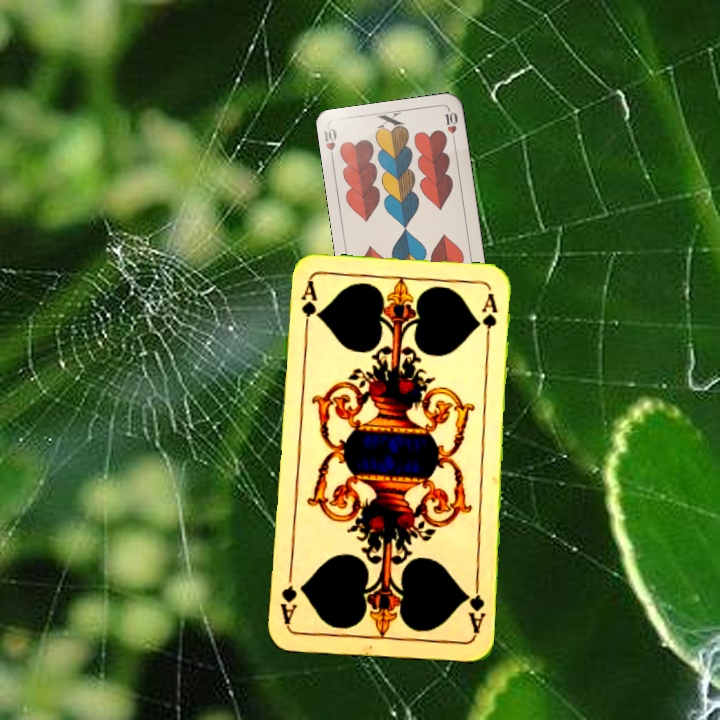GA: (461, 578, 487, 636), (297, 277, 320, 336)
H10: (320, 124, 339, 165)
